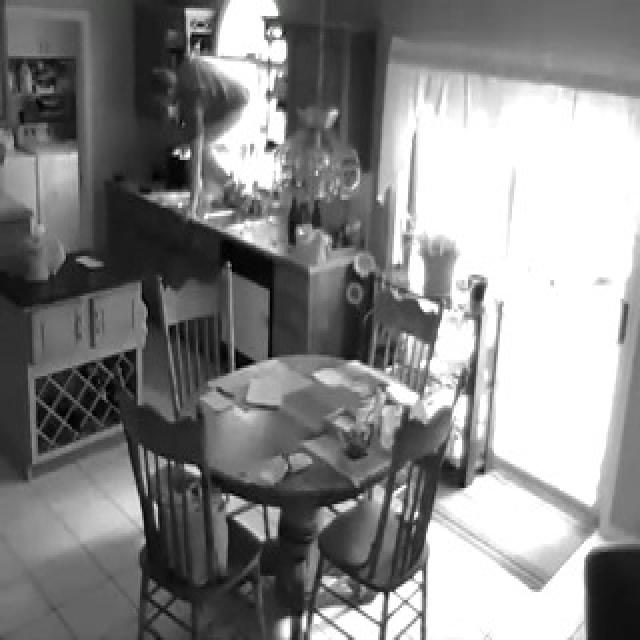thief: (132, 64, 244, 174)
